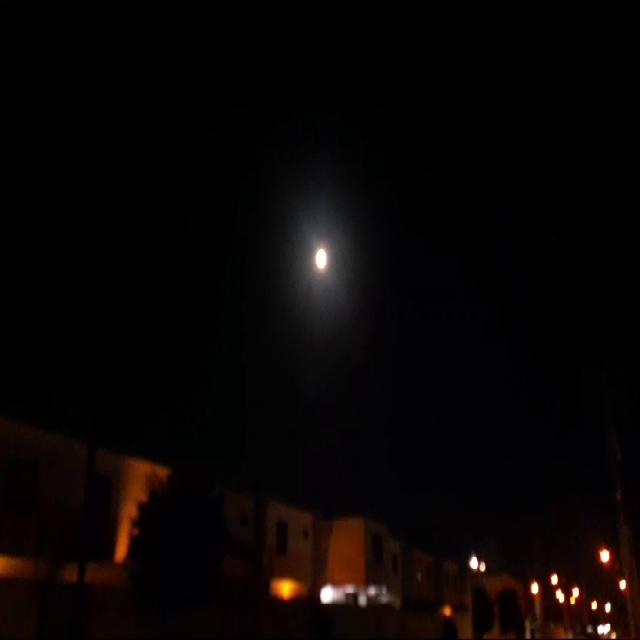moon: (312, 249, 329, 283)
